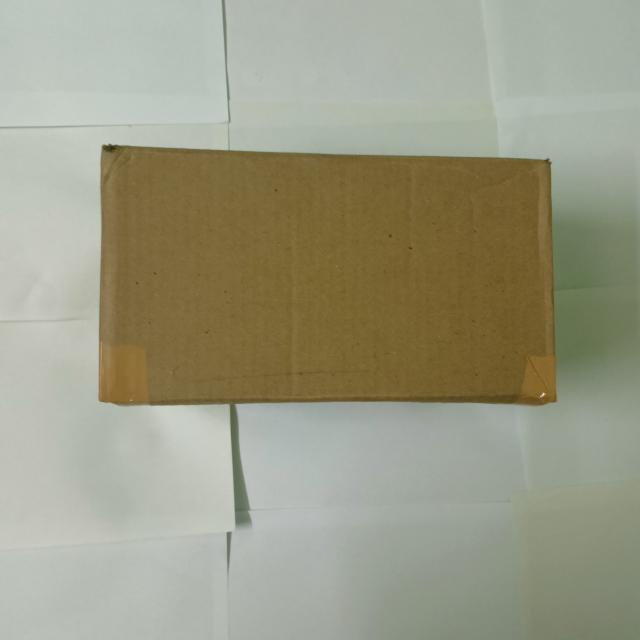box: (97, 148, 559, 409)
